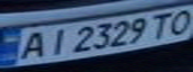2: (69, 22, 97, 54), (109, 17, 136, 48)
3: (90, 20, 115, 52)
9: (127, 15, 154, 45)
A: (9, 29, 51, 61)
I: (39, 26, 72, 57)
O: (163, 7, 193, 35)
T: (145, 10, 178, 38)
